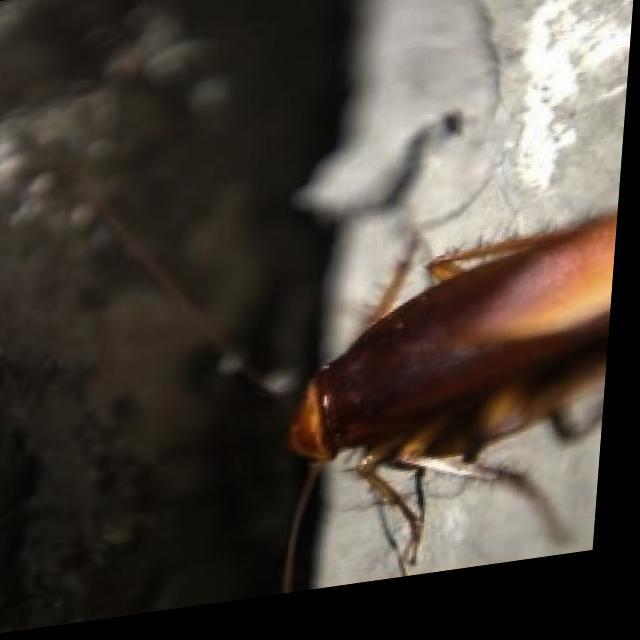cockroach: (292, 209, 616, 467)
